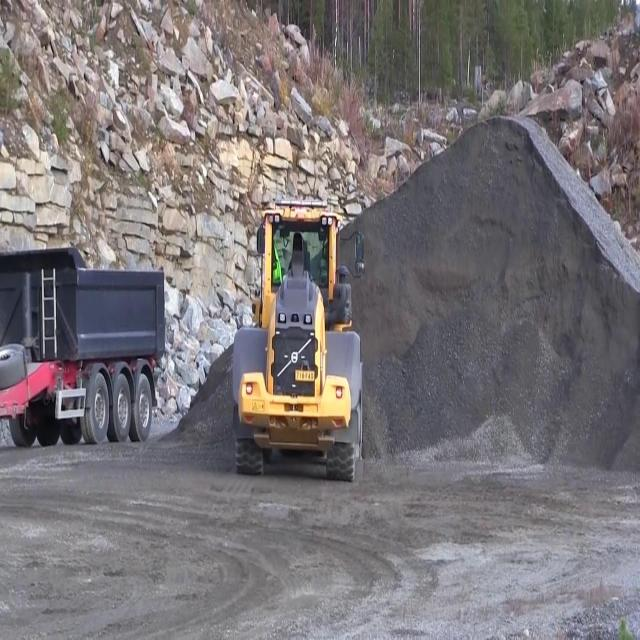Dump Truck: (1, 242, 166, 450)
Loader: (229, 198, 367, 483)
